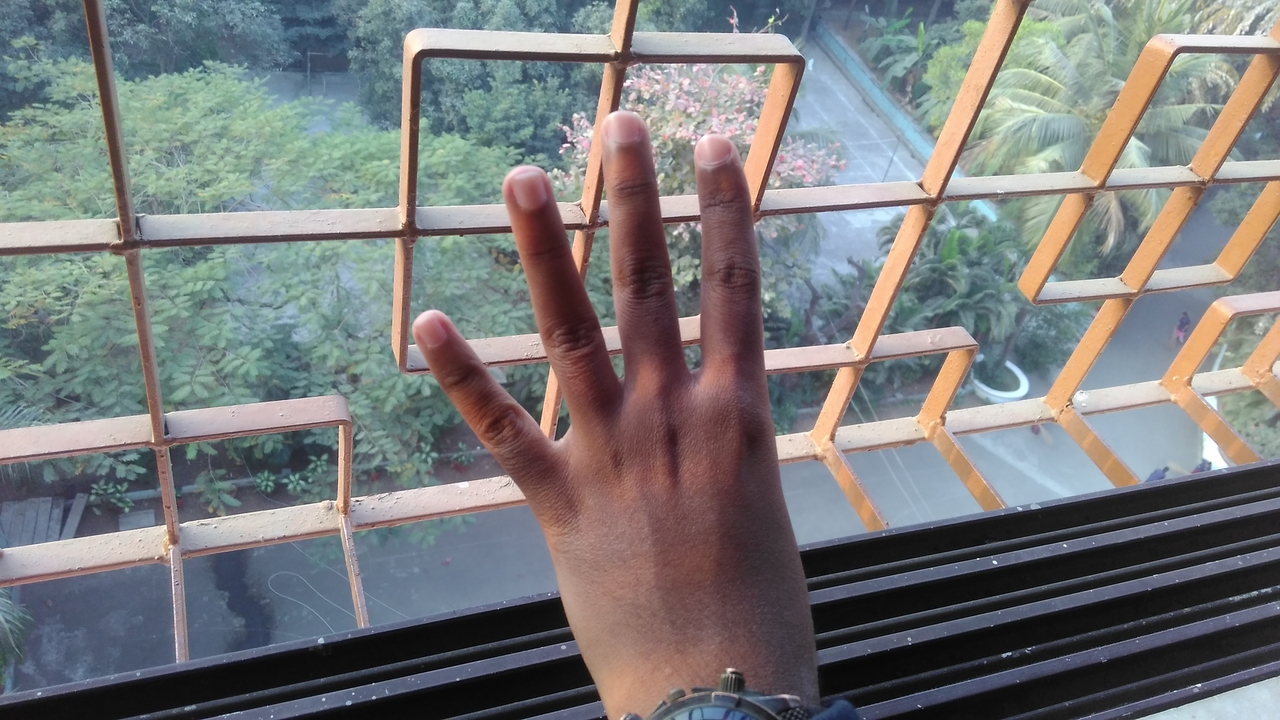fingertip: (588, 108, 654, 174), (496, 156, 554, 218), (688, 132, 748, 188), (404, 302, 462, 358)
